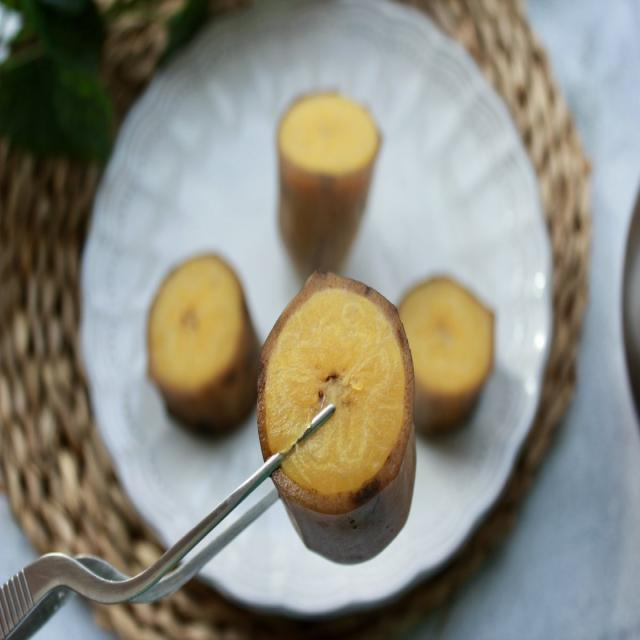platano: (245, 260, 453, 575)
